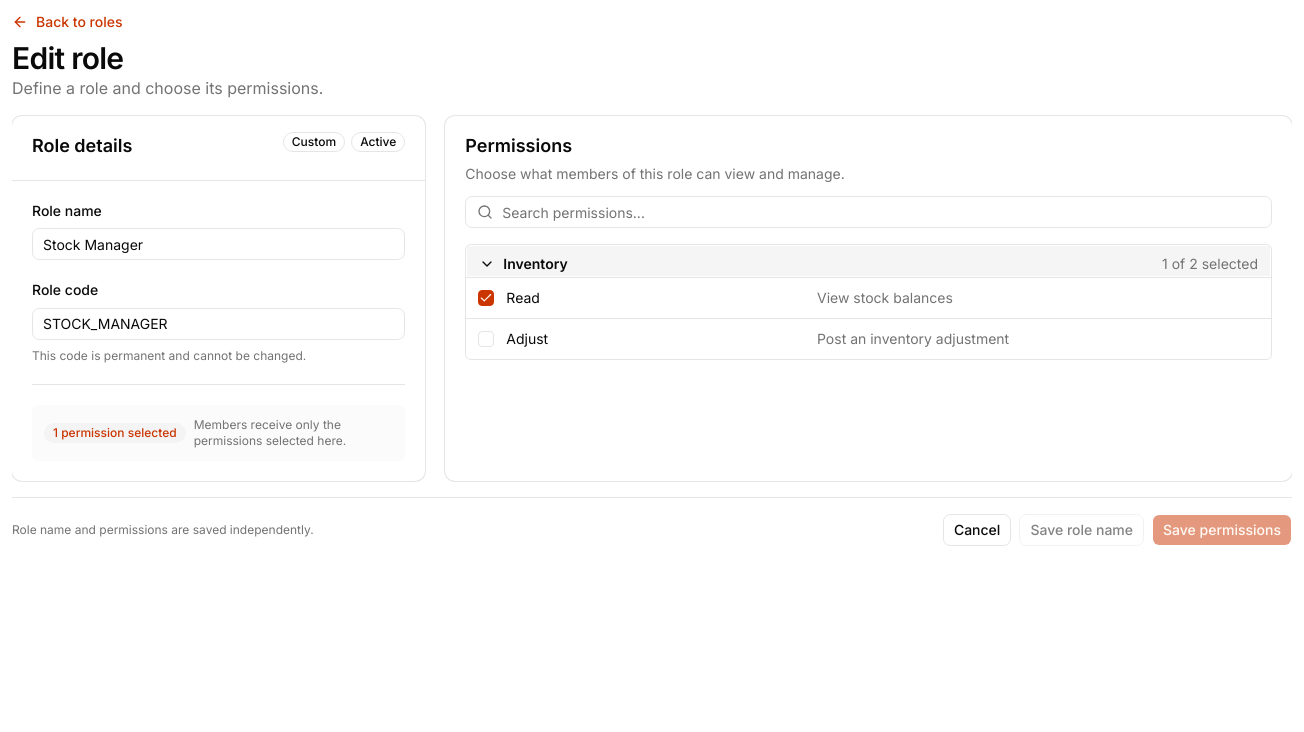
Test: role editor page › retains failed permission edits for correction and retry
Click the checkbox named "Stock Manager inventory.adjust" in the row of "Post an inventory adjustment": (486, 339) [478,331,494,347]
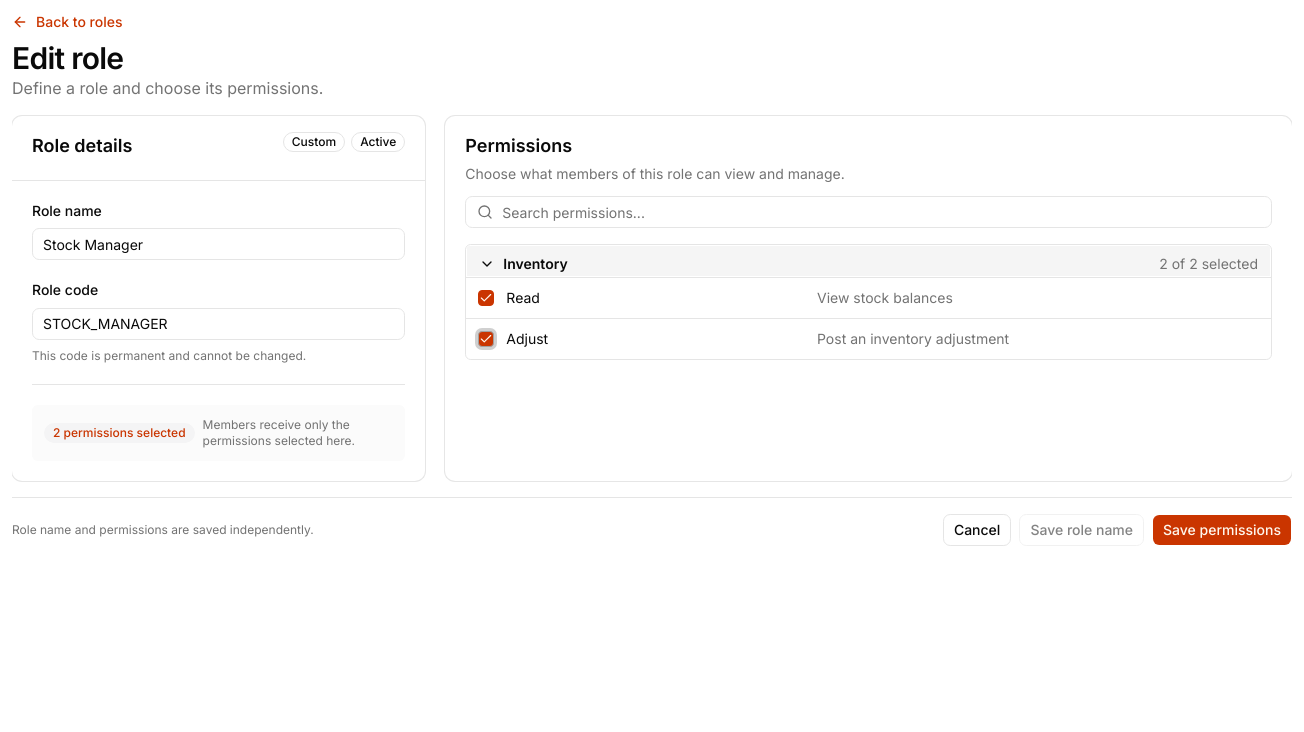
Click the button "Save permissions": (1222, 530) [1152,514,1292,546]
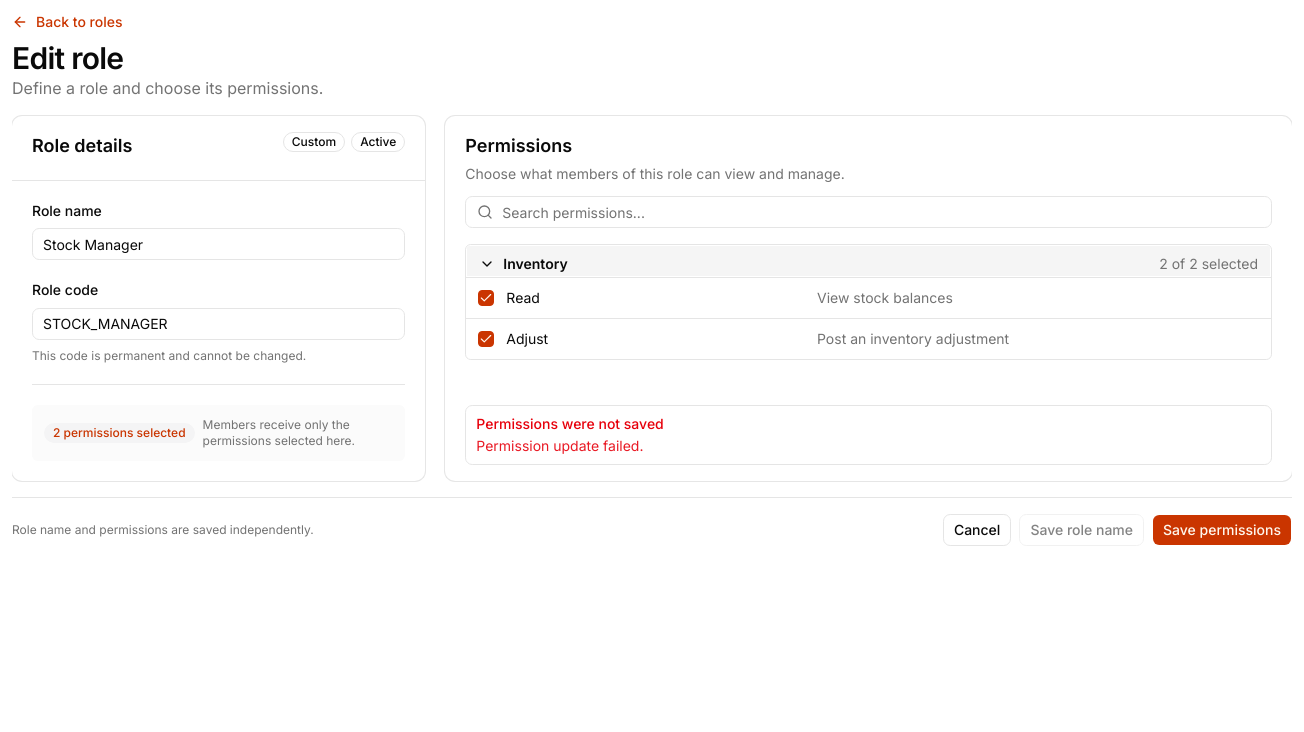
Check: the button "Save permissions" is enabled, box [1152,514,1292,546]
Check: the message shows "Permission update failed.", box [476,436,644,454]
